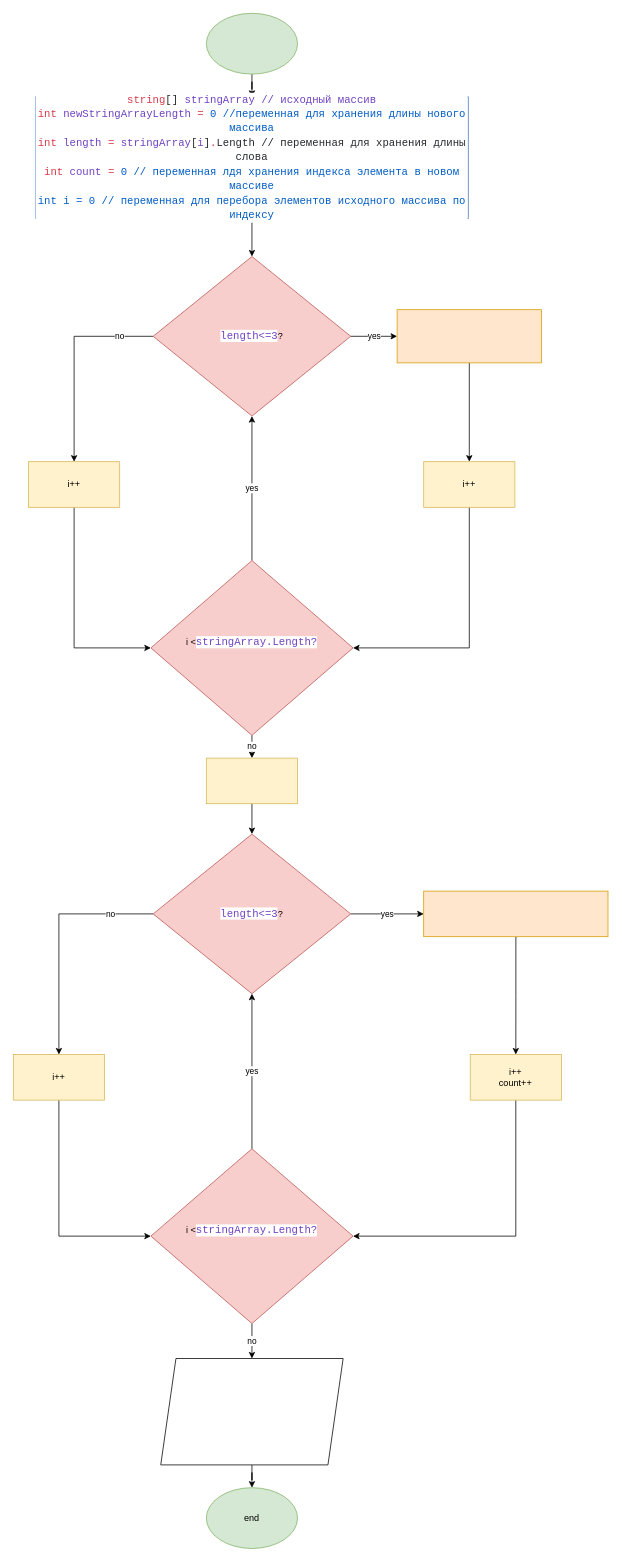
Image size: 622x1562. Some labels were removed from this diagram. Here are the shapes that lost their labels. From the top down, the centre of each, then its label:
At pixel 252 43: "start".
At pixel 469 336: "newStringArrayLength++".
At pixel 252 780: "i = 0".
At pixel 515 913: "newStringArray [ count ] = stringArray [ i ]".
At pixel 251 1411: "вывод массива string[] newStringArray".
